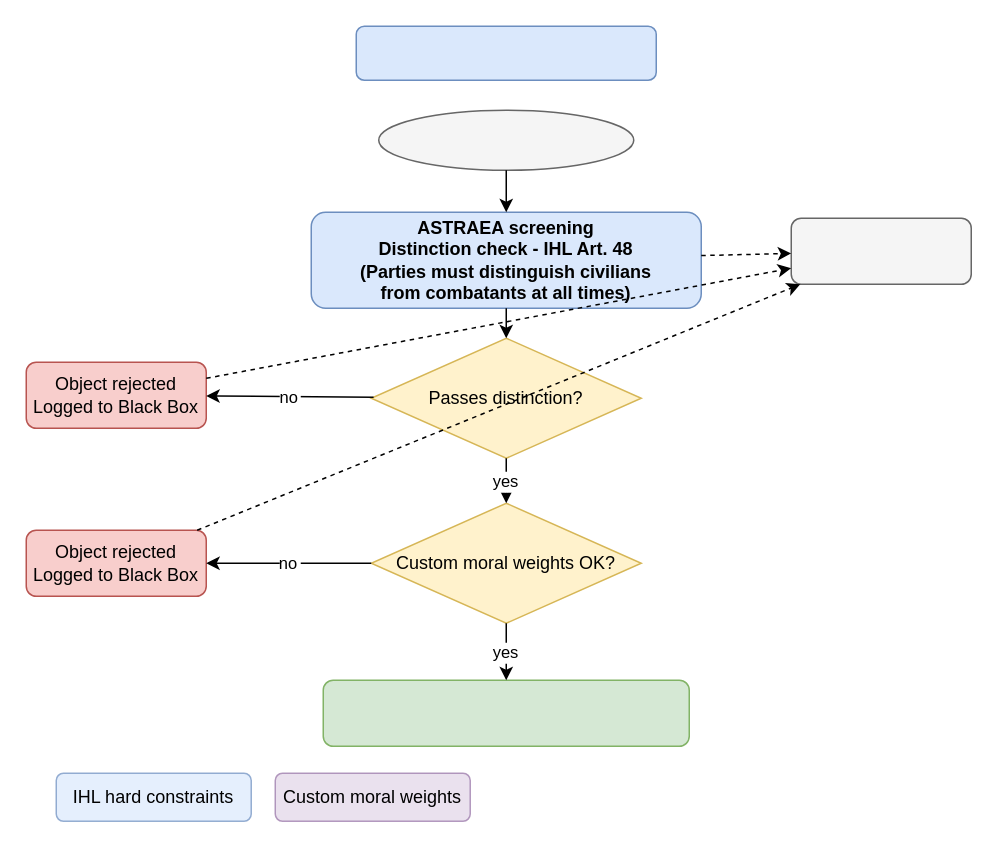
This 998x848 diagram has some shape labels left out. Each missing label, with the box of its shape:
Black Box Auto-logged: (790, 217, 971, 284)
Object added to target bank: (322, 679, 689, 746)
Raw battlefield data input: (377, 109, 634, 170)
Stage 1 - Find: (355, 25, 656, 80)
